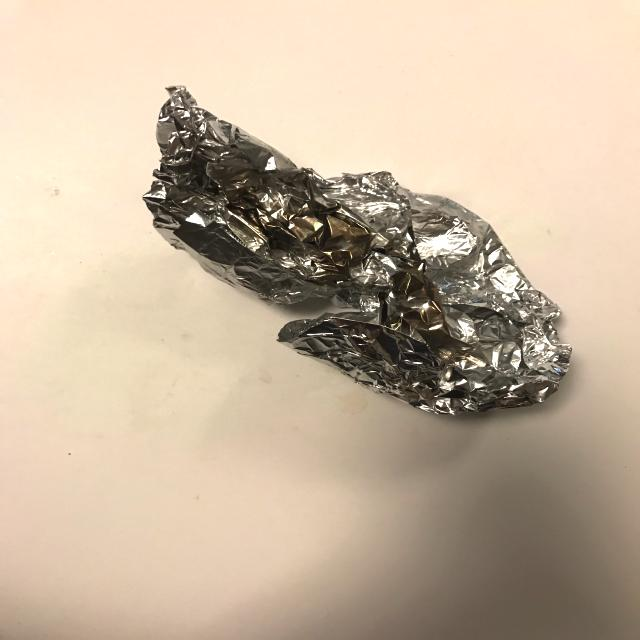Metal: (130, 72, 606, 436)
